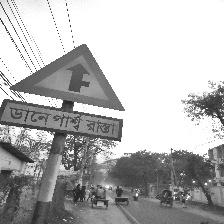Side-road-right: (0, 43, 127, 142)
